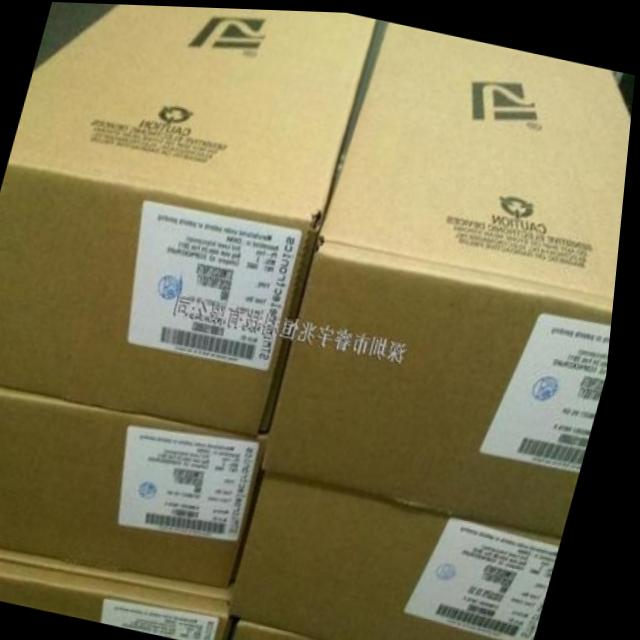box: (269, 20, 633, 531), (0, 3, 375, 435), (238, 469, 572, 640), (0, 387, 274, 586), (0, 550, 240, 640), (244, 616, 339, 640)
